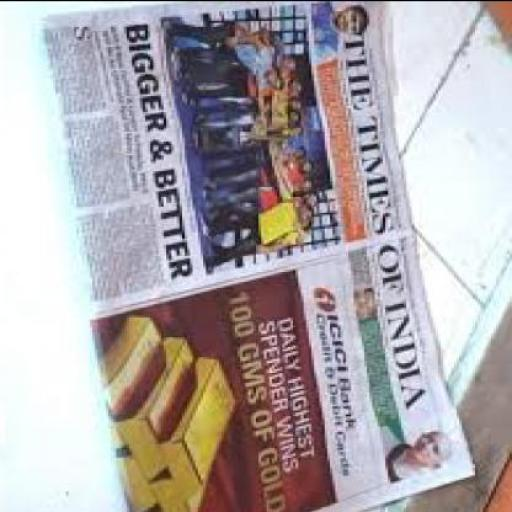paper: (47, 1, 480, 511)
